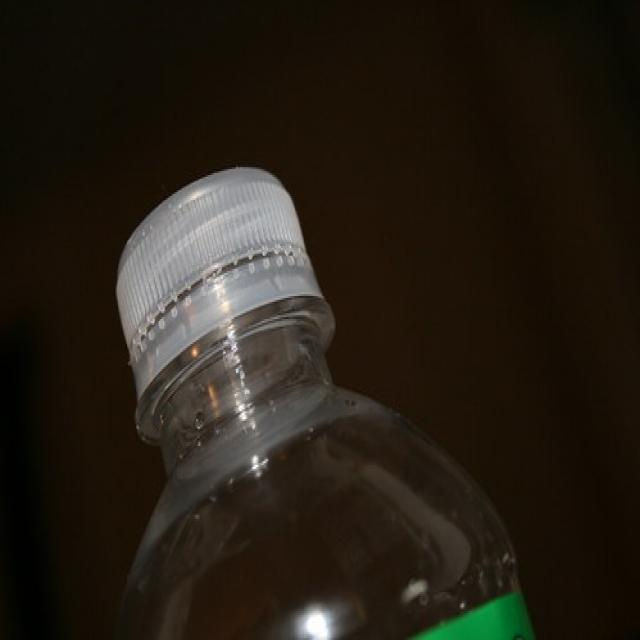bottle: (112, 165, 535, 640)
